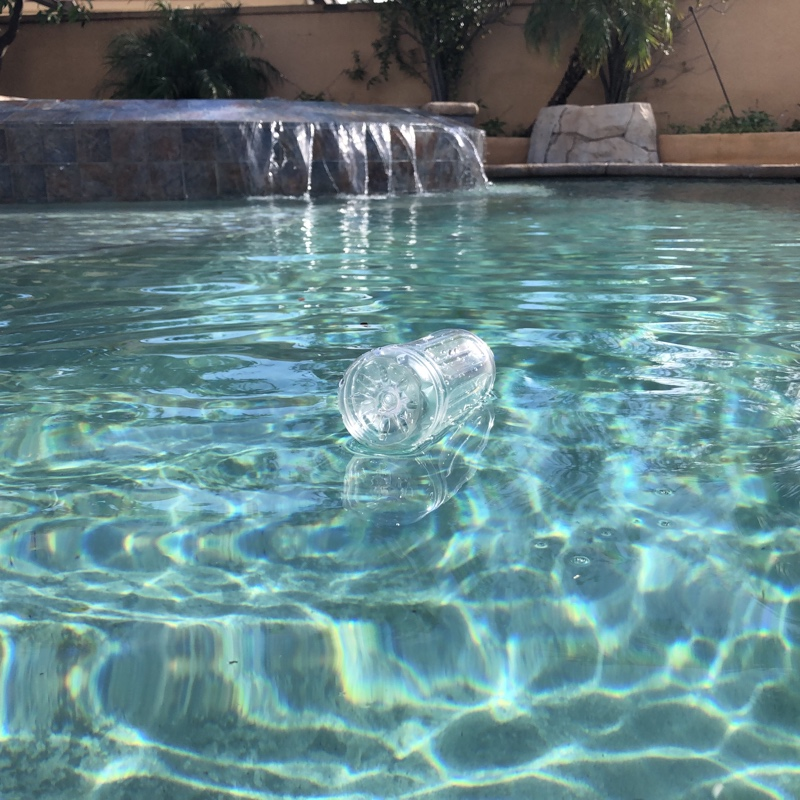Plastic Bottle: (334, 324, 501, 450)
